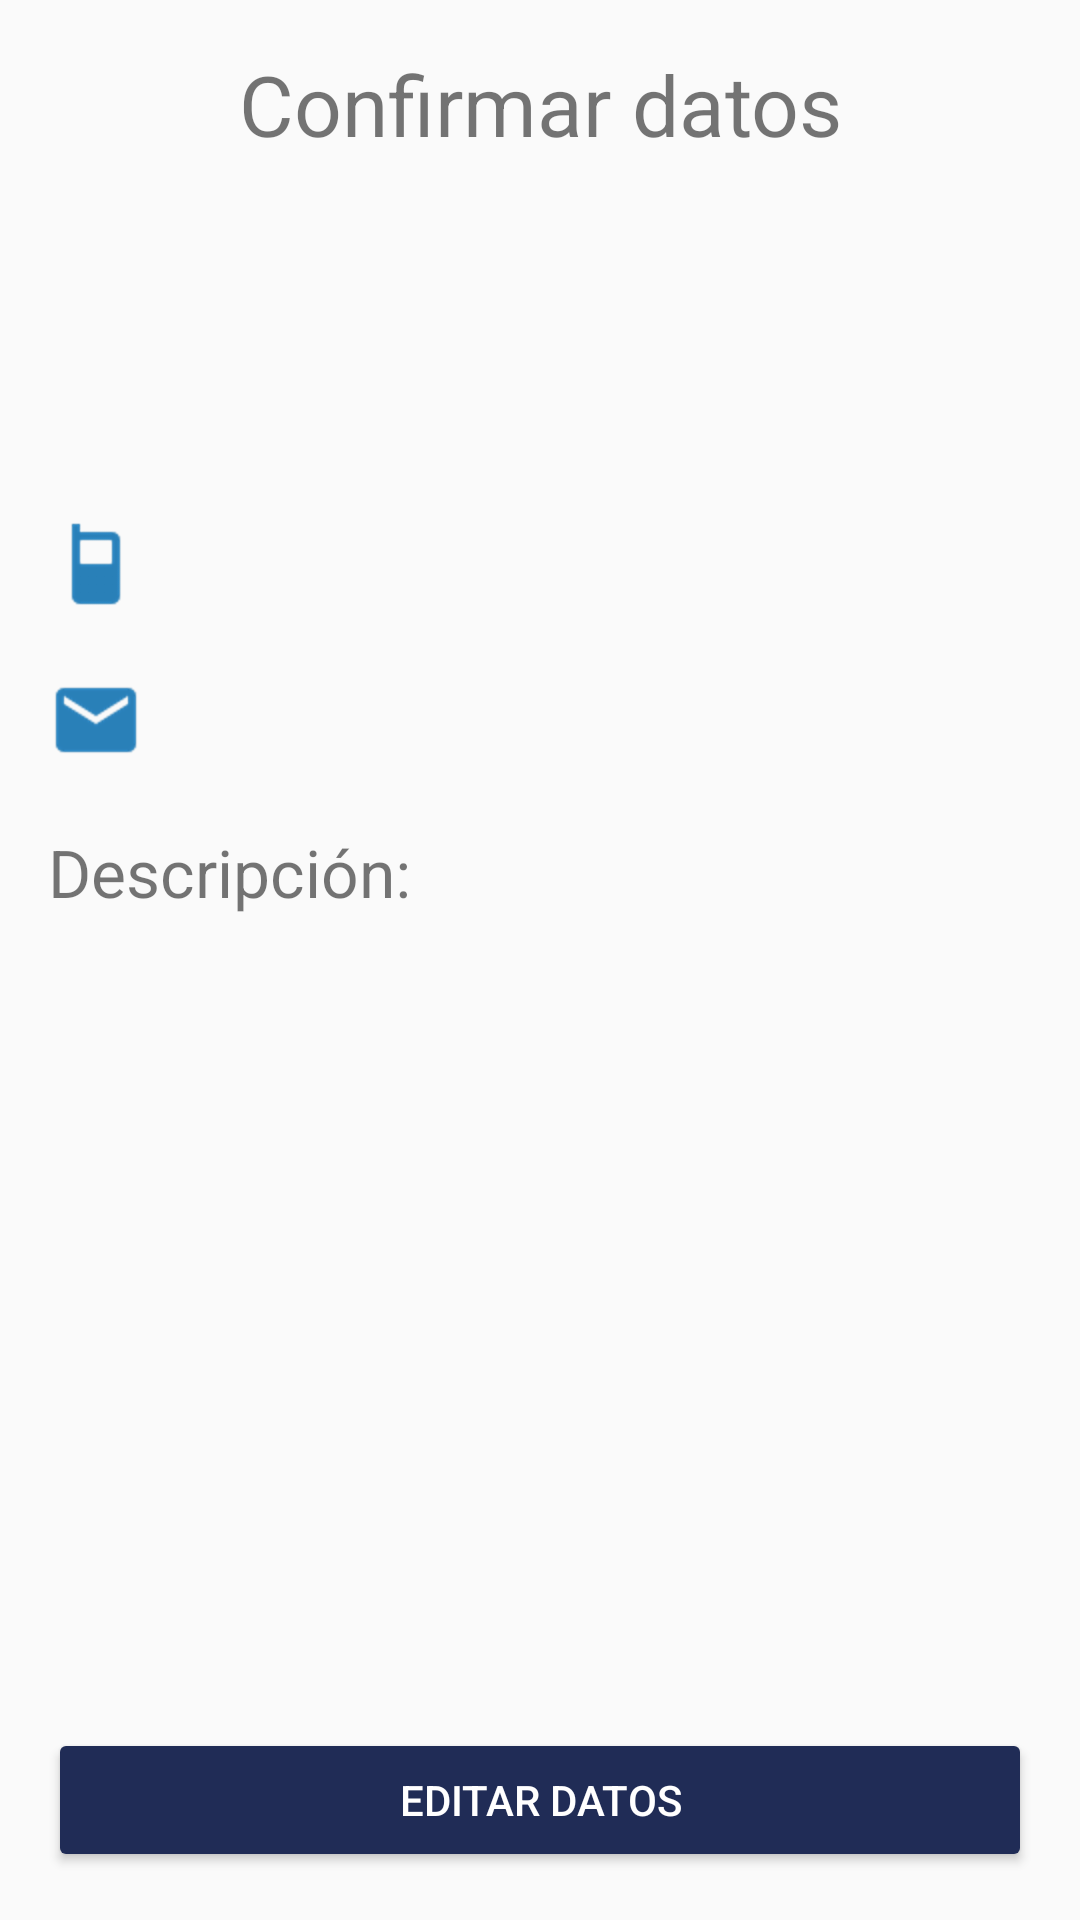

Named icons in this screenshot (1080w x 1920h) and their bounding boxes, Rect(x1, y1, x2, y2):
cell phone: Rect(71, 523, 121, 605)
message: Rect(55, 687, 137, 753)
